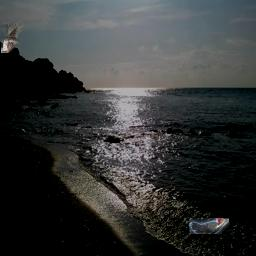Cuckoo: (1, 21, 26, 53)
Woodpecker: (189, 218, 229, 234)
